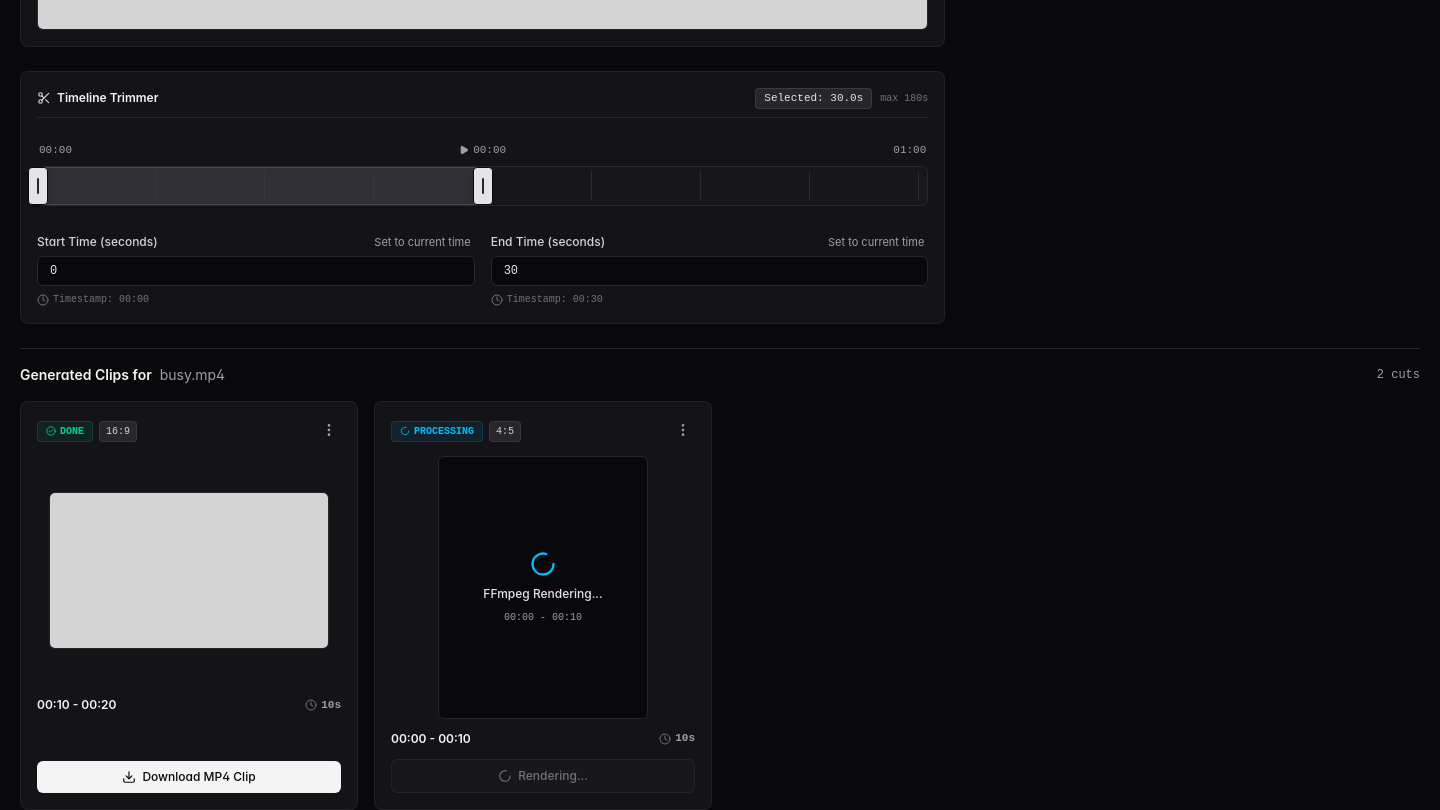
Test: ShortsClipperPage Frontend Tests › displays friendly message on delete failure and disables delete for processing clips
This screenshot has width=1440, height=810.
(page scrolled)
# Processing clip has Delete disabled with tooltip
Click the button named "Options for clip clip-pro" at (683, 430), box 671,418 -> 695,442
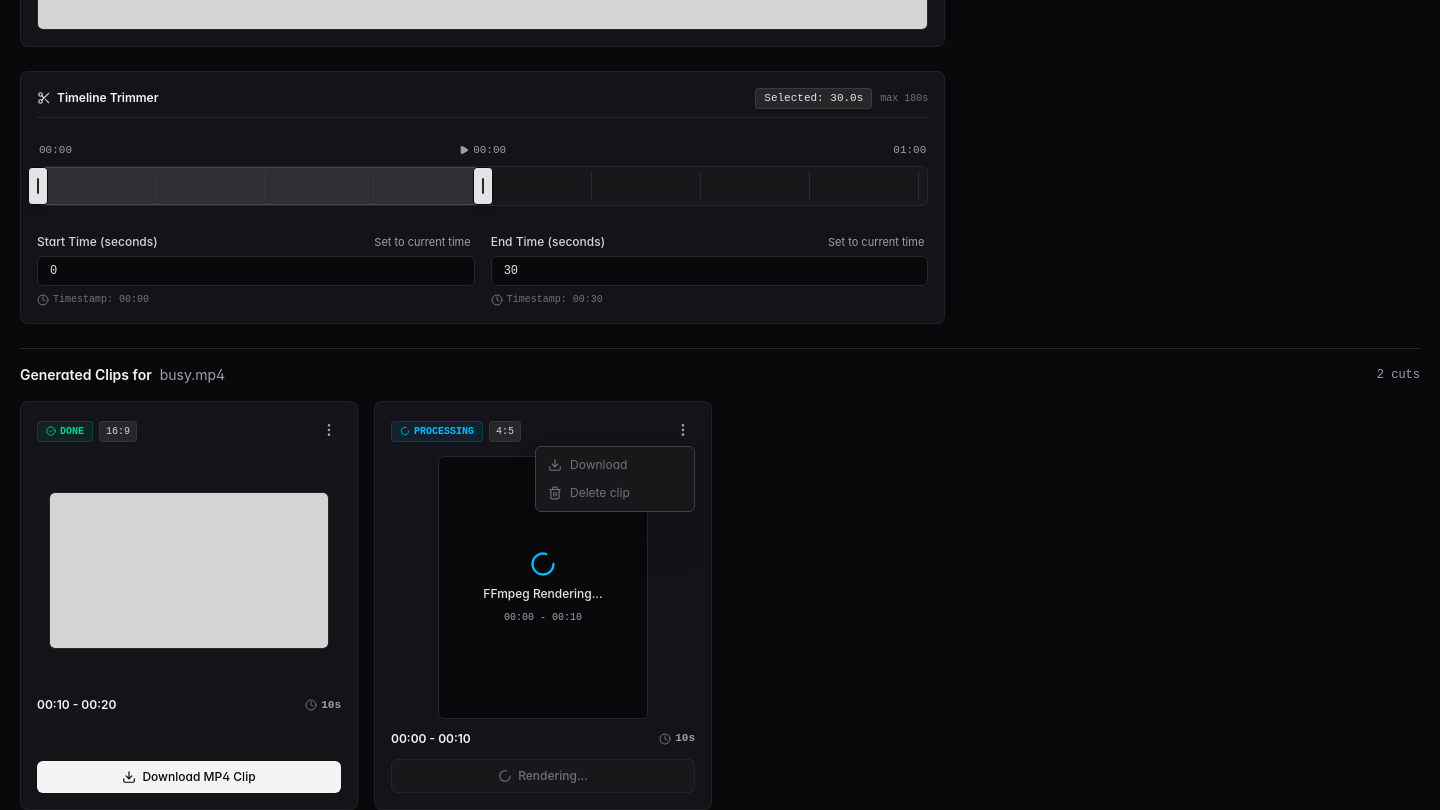
Expected: the menu item "Delete clip" is disabled, 536,479 -> 694,507
# Close menu
Press Escape
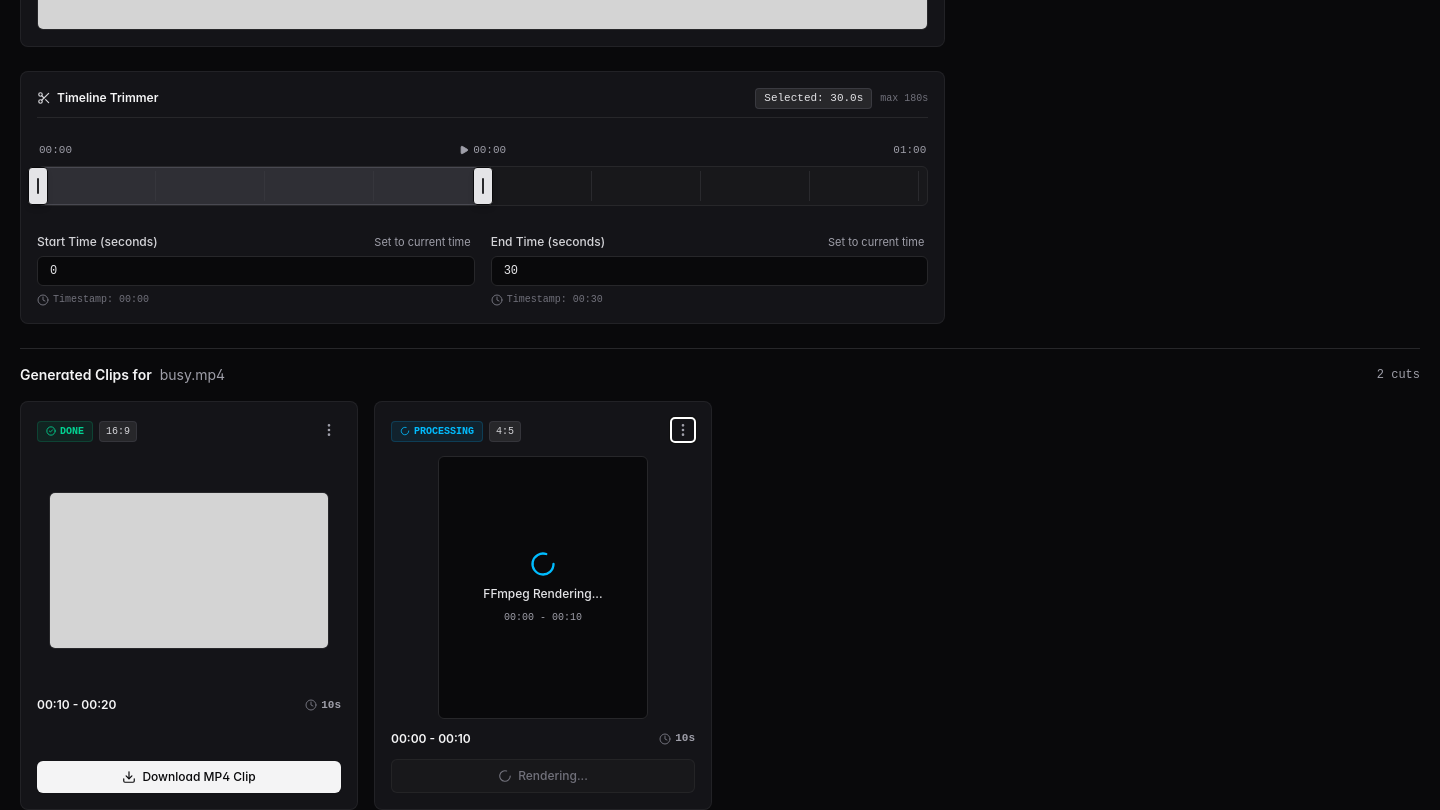
# Done clip that fails on delete with CLIP_BUSY shows friendly message
Click the button named "Options for clip clip-err" at (329, 430), box 317,418 -> 341,442
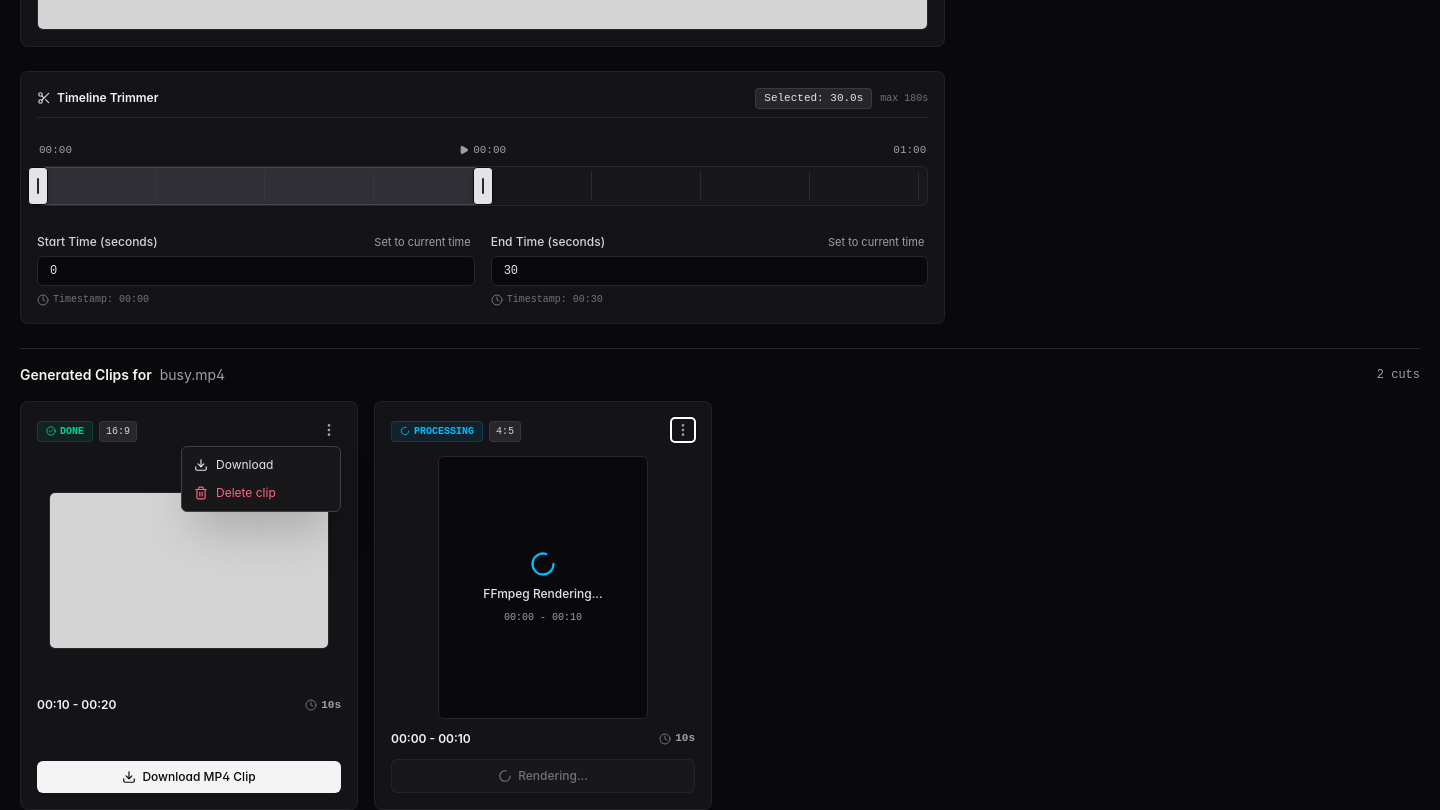
Click the menu item "Delete clip" at (261, 493), box 182,479 -> 340,507
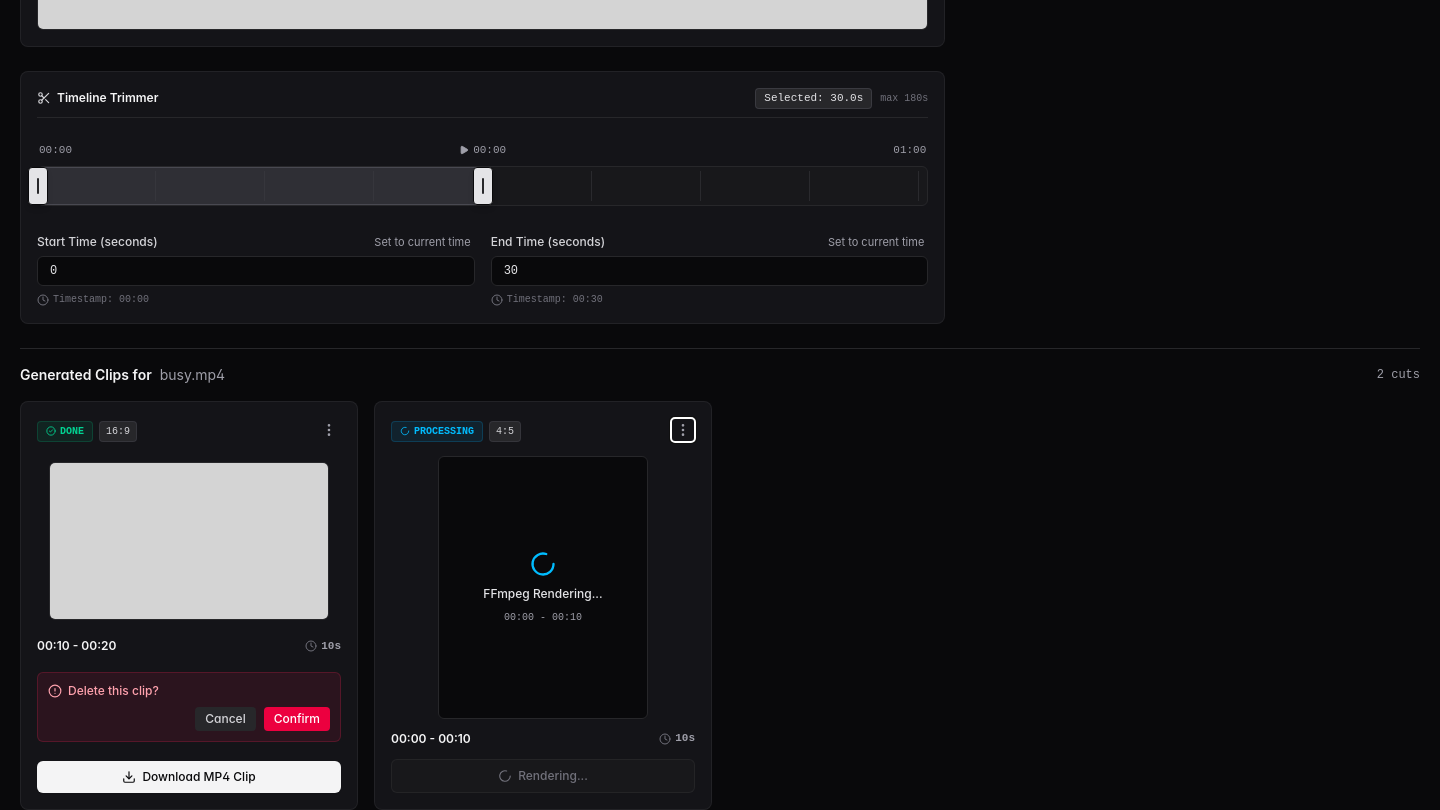
Click the button "Confirm" at (297, 719), box 264,707 -> 330,731
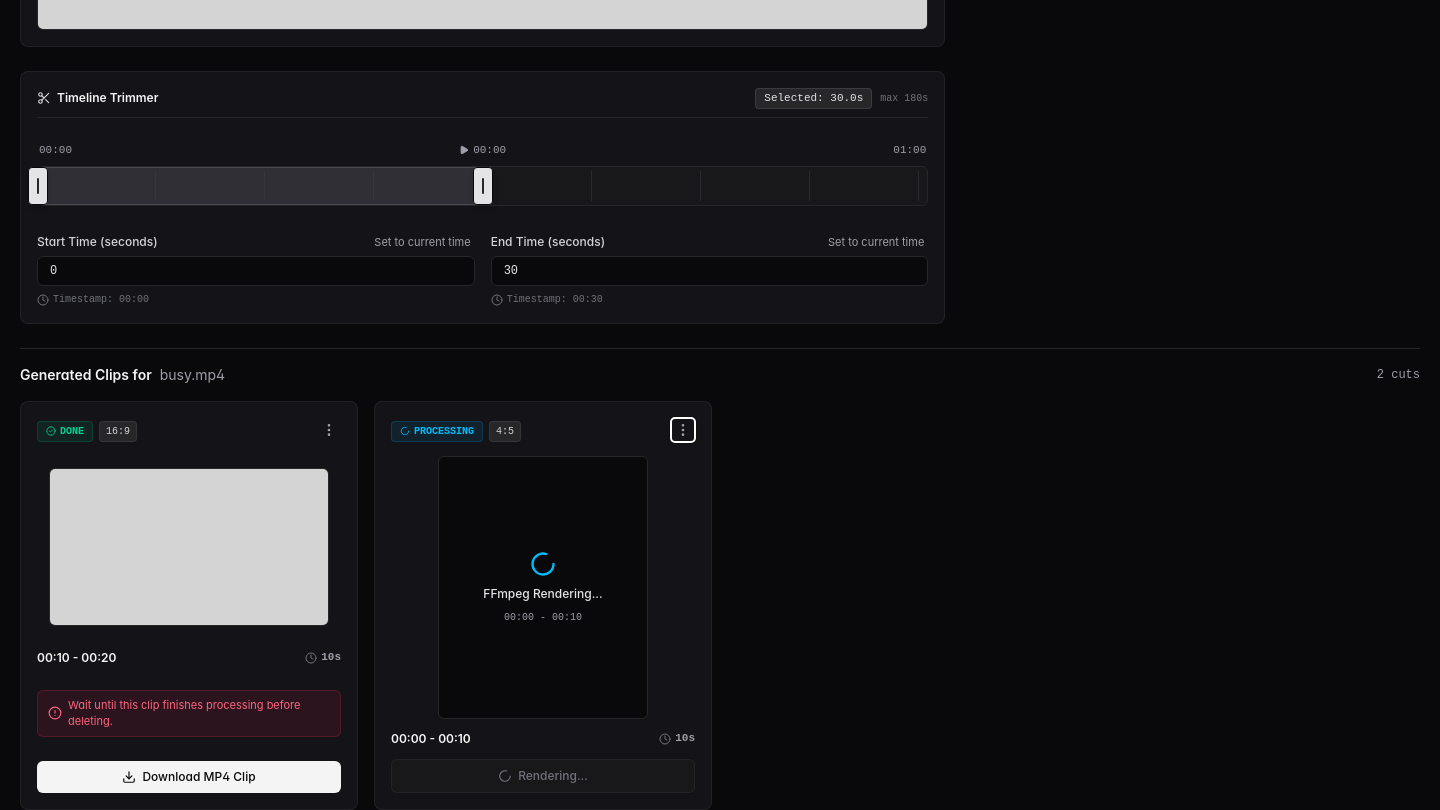
Expected: the text "Wait until this clip finishes processing before deleting." is shown, 68,697 -> 330,730
